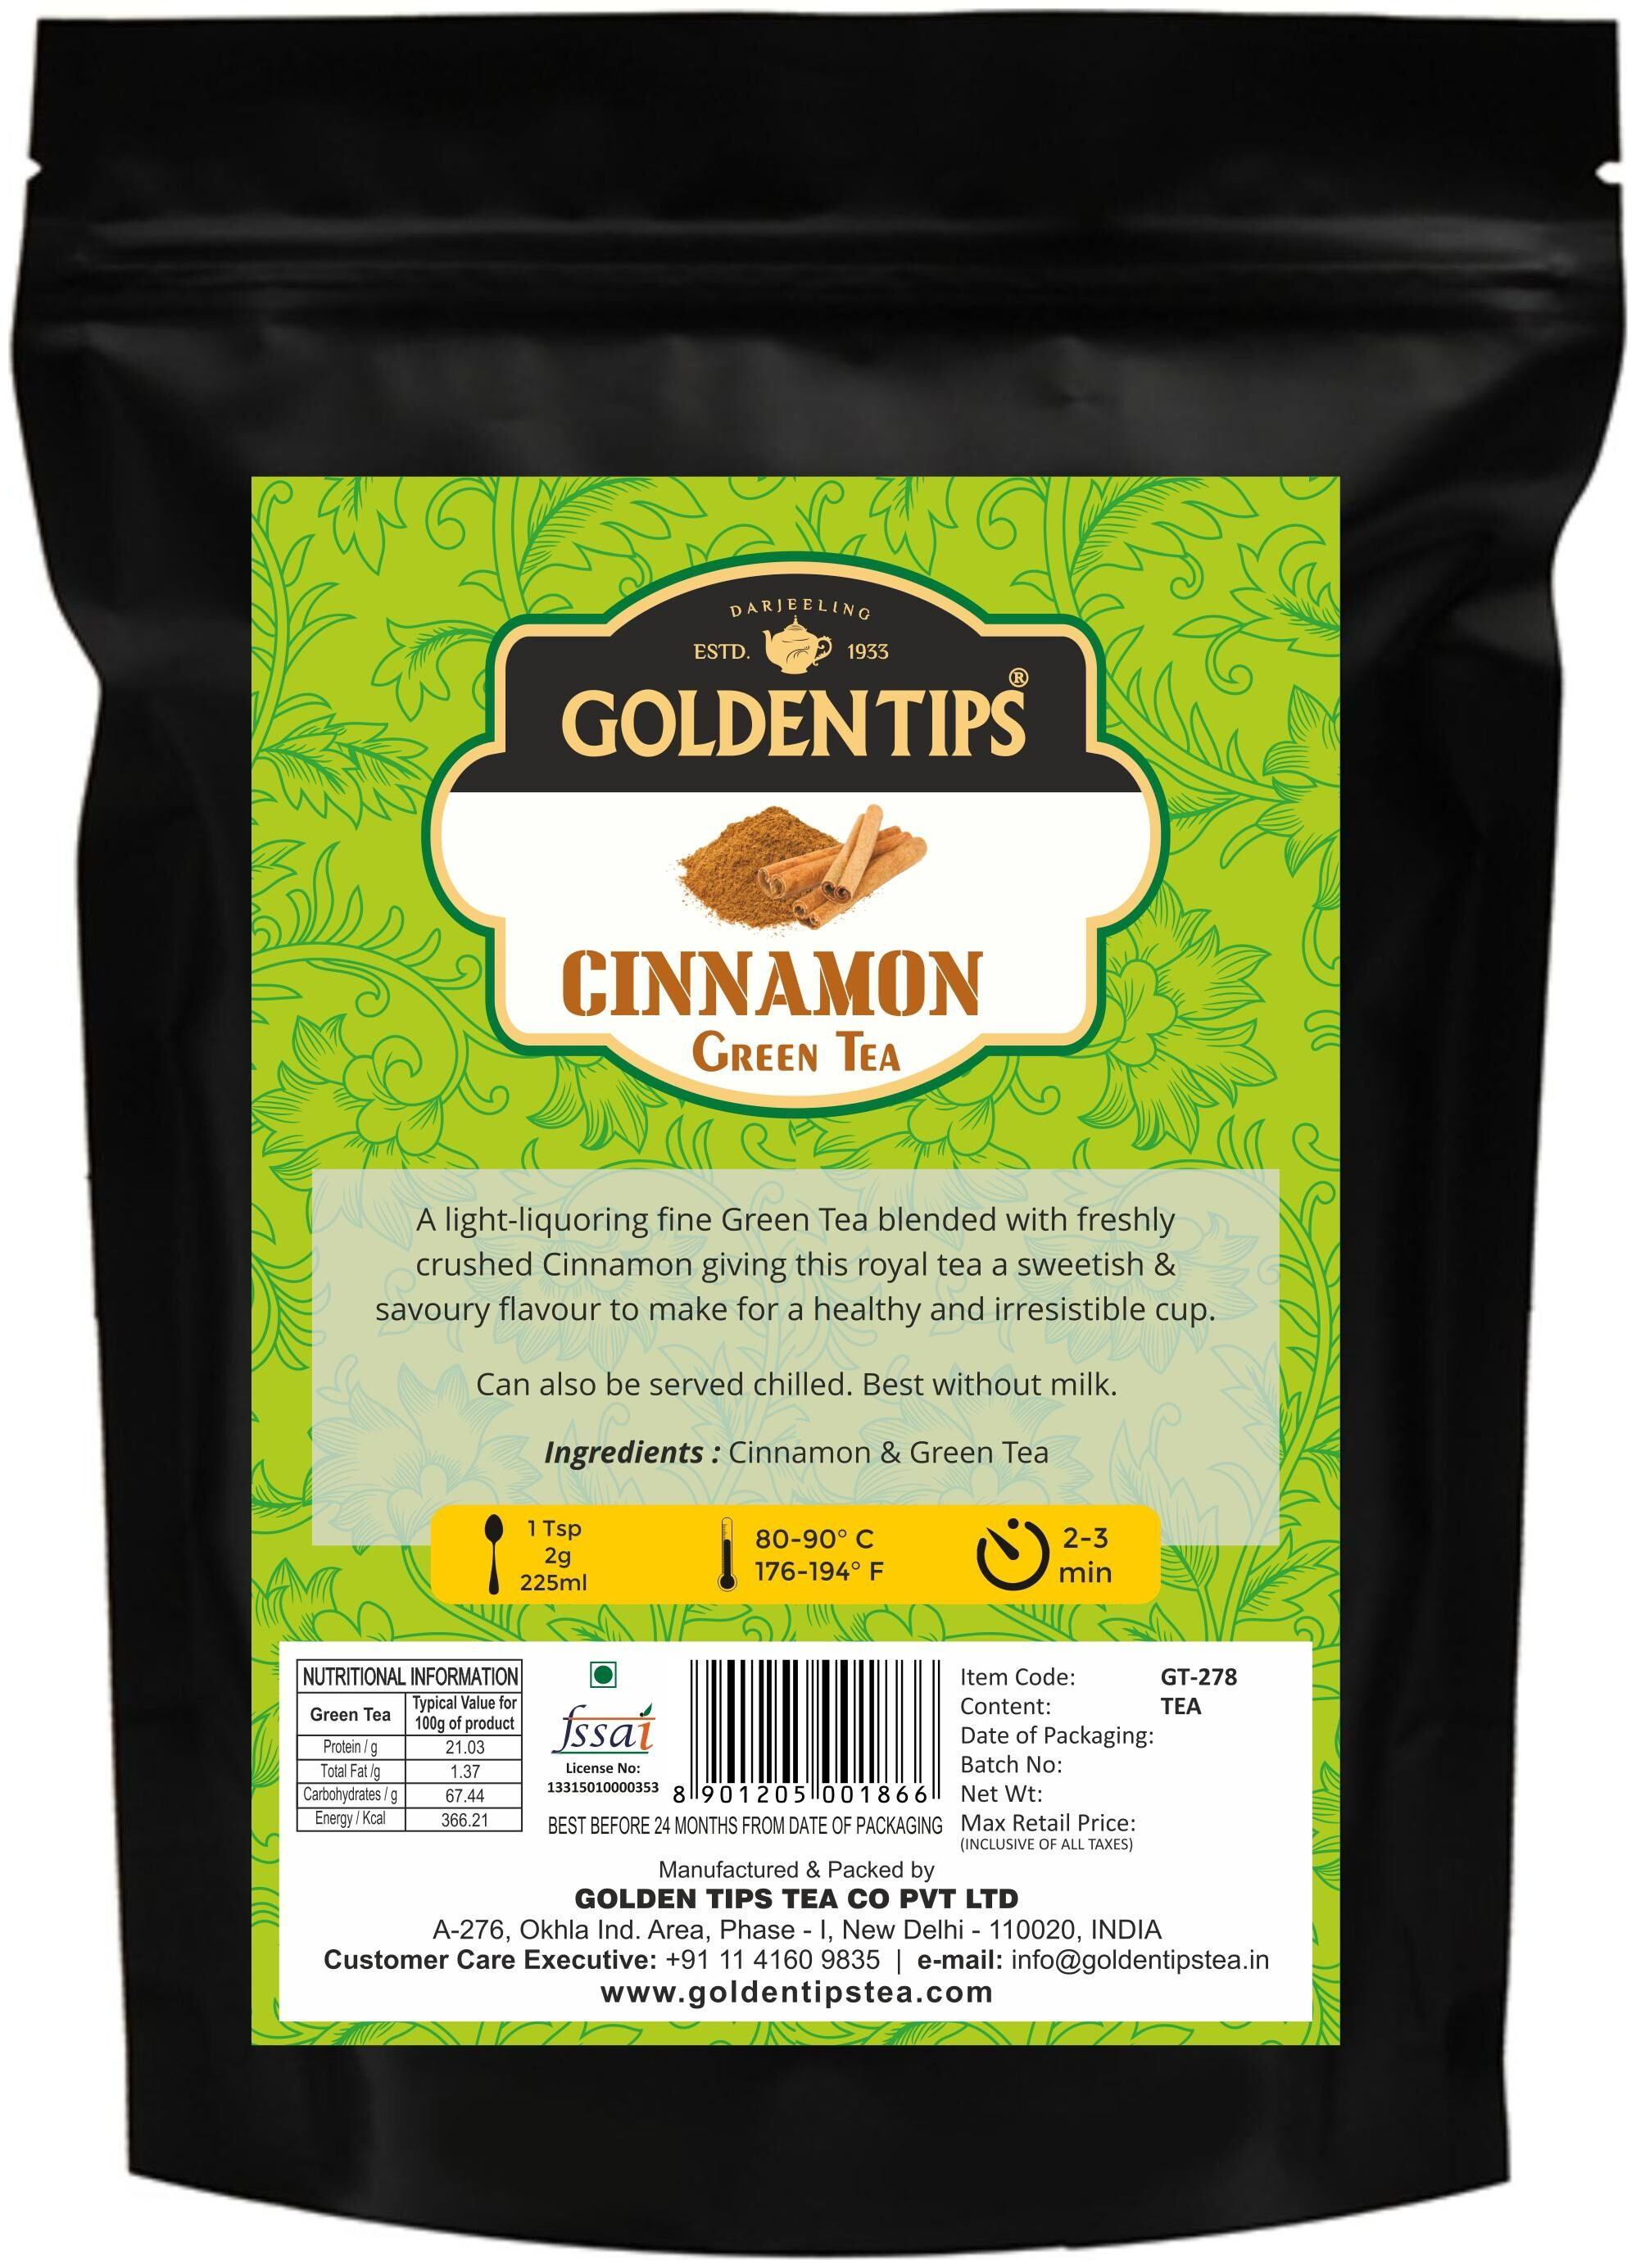fssai: (548, 1701, 655, 1756)
